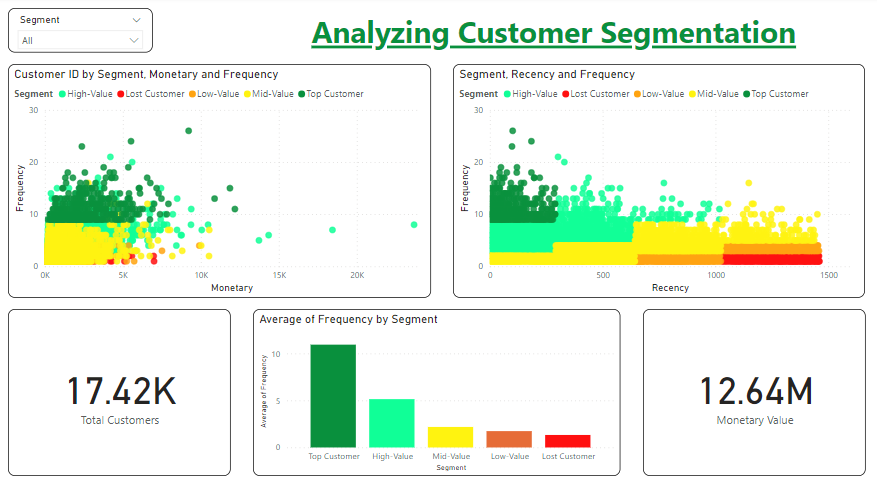

The dashboard page shown, as its layout file describes it:
{"tool":"powerbi","page":{"name":"Page 1","canvas":[1280,720],"ordinal":0},"visuals":[{"type":"scatterChart","fields":{"Y":["ONLINE_RETAIL_CLV_Segmentation.FREQUENCY"],"X":["ONLINE_RETAIL_CLV_Segmentation.MONETARY"],"Series":["ONLINE_RETAIL_CLV_Segmentation.SEGMENT"]},"box":[16,96,608,336],"z":0},{"type":"slicer","fields":{"Values":["ONLINE_RETAIL_CLV_Segmentation.SEGMENT"]},"box":[480,0,416,80],"z":1},{"type":"scatterChart","fields":{"Y":["ONLINE_RETAIL_CLV_Segmentation.FREQUENCY"],"X":["ONLINE_RETAIL_CLV_Segmentation.RECENCY"],"Series":["ONLINE_RETAIL_CLV_Segmentation.SEGMENT"]},"box":[656,96,592,336],"z":2},{"type":"card","fields":{"Values":["CountNonNull(ONLINE_RETAIL_CLV_Segmentation.Customer ID)"]},"box":[16,448,320,240],"z":3},{"type":"clusteredColumnChart","fields":{"Category":["ONLINE_RETAIL_CLV_Segmentation.SEGMENT"],"Y":["Avg(ONLINE_RETAIL_CLV_Segmentation.FREQUENCY)"]},"box":[368,448,528,240],"z":4},{"type":"card","fields":{"Values":["Sum(ONLINE_RETAIL_CLV_Segmentation.MONETARY)"]},"box":[928,448,320,240],"z":5}]}

Visuals, with their boxes in screenshot pixels (x1, y1, x2, y2), scaled from the page's 1280x720 canvas onto the 877x487 screenshot:
scatterChart - ONLINE_RETAIL_CLV_Segmentation.FREQUENCY x ONLINE_RETAIL_CLV_Segmentation.MONETARY: [11, 65, 428, 292]
slicer - ONLINE_RETAIL_CLV_Segmentation.SEGMENT: [329, 0, 614, 54]
scatterChart - ONLINE_RETAIL_CLV_Segmentation.FREQUENCY x ONLINE_RETAIL_CLV_Segmentation.RECENCY: [449, 65, 855, 292]
card - CountNonNull(ONLINE_RETAIL_CLV_Segmentation.Customer ID): [11, 303, 230, 465]
clusteredColumnChart - ONLINE_RETAIL_CLV_Segmentation.SEGMENT x Avg(ONLINE_RETAIL_CLV_Segmentation.FREQUENCY): [252, 303, 614, 465]
card - Sum(ONLINE_RETAIL_CLV_Segmentation.MONETARY): [636, 303, 855, 465]
